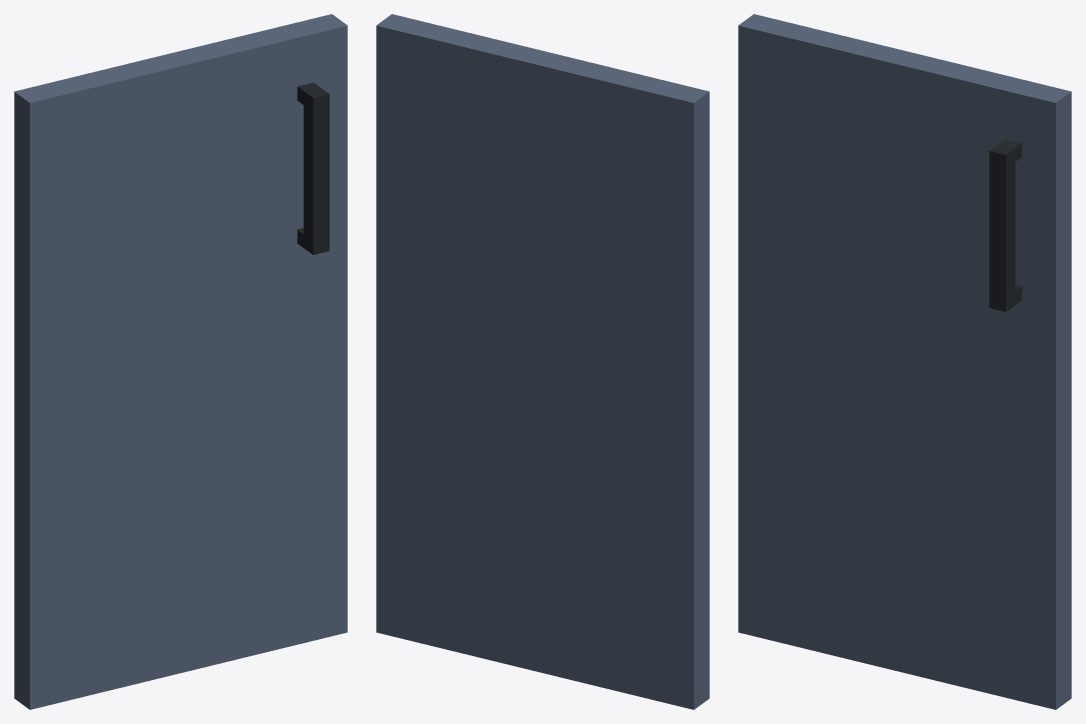
File: Door1_C4_10.fbx
3 views of the same model, side by side, from view 1: azimuth 30°, elevation 25°; view 2: azimuth 150°, elevation 25°; view 3: azimuth 330°, elevation 25° (orthographic).
Visible parts, largest first — view 1: Door1_C4_10; view 2: Door1_C4_10; view 3: Door1_C4_10.
Boxes of the visible parts, x1,y1,x2,y2 form: Door1_C4_10: (14,14,347,709); Door1_C4_10: (376,14,709,709); Door1_C4_10: (738,14,1071,709).
Bounding box in the file's own units: 29 × 52.92 × 5.03.
